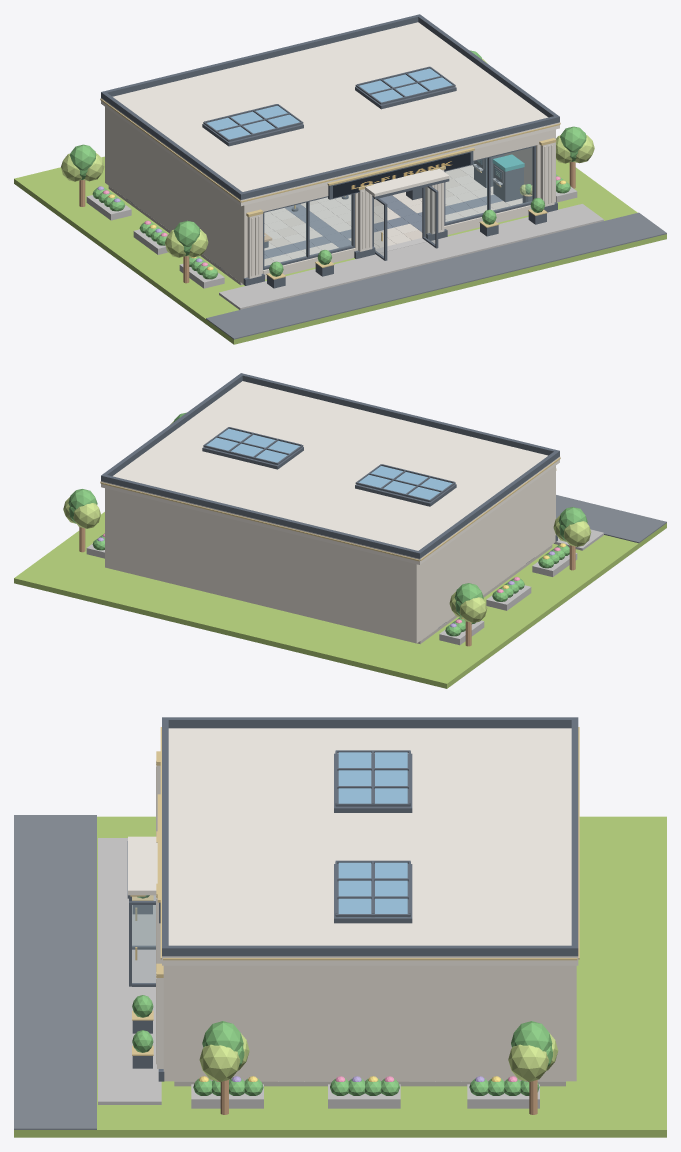
File: bank.glb
3 views of the same model, one above another, from view 1: azimuth 30°, elevation 25°; view 2: azimuth 150°, elevation 25°; view 3: azimuth 270°, elevation 25° (orthographic). The views are drawn at different scales.
Visible parts, largest first — view 1: Roof_cream, Walls_ivory, Site_grass, Site_asphalt, Roof_charcoal, Windows_glass, Walkable_paver, FloorFinish_tile2, Trim_cream, Landscape_leaf, Roof_blue, FloorFinish_slate (+14 smaller); view 2: Roof_cream, Walls_ivory, Site_grass, Roof_charcoal, Roof_blue, Landscape_leaf, Site_asphalt, Landscape_leaf2, Landscape_paver, Roof_gold, Landscape_wood; view 3: Roof_cream, Site_grass, Walls_ivory, Site_asphalt, Roof_charcoal, Walkable_paver, Roof_blue, Landscape_leaf, Landscape_paver, Trim_cream, Landscape_leaf2, Roof_gold (+5 smaller).
Part boxes in pixels (x1,y1,x2,y2): Roof_cream: (101, 22, 559, 206); Walls_ivory: (105, 107, 555, 283); Site_grass: (14, 156, 666, 344); Site_asphalt: (206, 212, 666, 339); Roof_charcoal: (101, 14, 559, 199); Windows_glass: (264, 147, 532, 266); Walkable_paver: (219, 204, 603, 309); FloorFinish_tile2: (118, 165, 522, 281); Trim_cream: (247, 142, 554, 278); Landscape_leaf: (70, 50, 586, 279); Roof_blue: (207, 68, 452, 139); FloorFinish_slate: (127, 194, 502, 269); Roof_cream: (101, 381, 559, 564); Walls_ivory: (105, 466, 555, 643); Site_grass: (14, 512, 666, 688); Roof_charcoal: (101, 373, 559, 558); Roof_blue: (206, 428, 452, 499); Landscape_leaf: (68, 412, 587, 636); Site_asphalt: (556, 495, 666, 543); Landscape_leaf2: (63, 421, 591, 622); Landscape_paver: (86, 543, 577, 645); Roof_gold: (100, 457, 560, 561); Landscape_wood: (79, 527, 575, 646); Roof_cream: (162, 728, 578, 965); Site_grass: (14, 816, 666, 1137); Walls_ivory: (163, 965, 576, 1081); Site_asphalt: (14, 815, 96, 1129); Roof_charcoal: (162, 717, 578, 956); Walkable_paver: (98, 838, 161, 1104); Roof_blue: (338, 752, 407, 917); Landscape_leaf: (132, 895, 552, 1095); Landscape_paver: (191, 1084, 539, 1108); Trim_cream: (128, 765, 163, 1068); Landscape_leaf2: (199, 1033, 558, 1082); Roof_gold: (160, 727, 579, 960).
Size of the model in its own units: 25 by 5.52 by 22.
30 materials, 4 textured.
